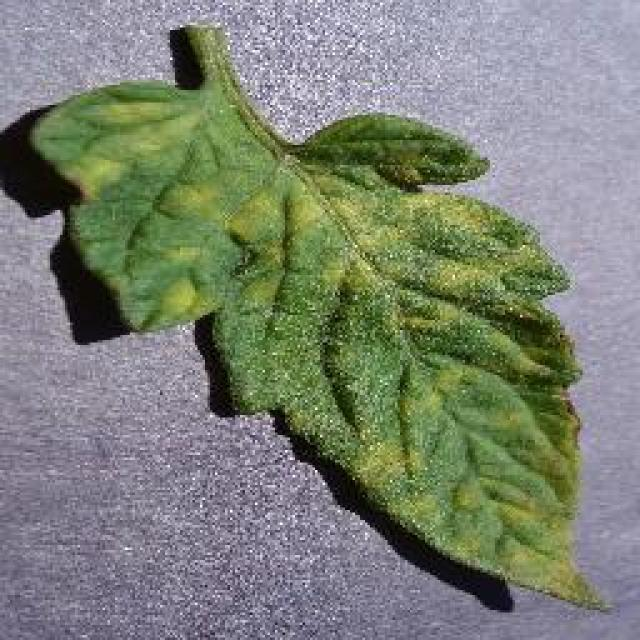Tomato___Leaf_Mold: (32, 25, 595, 602)
